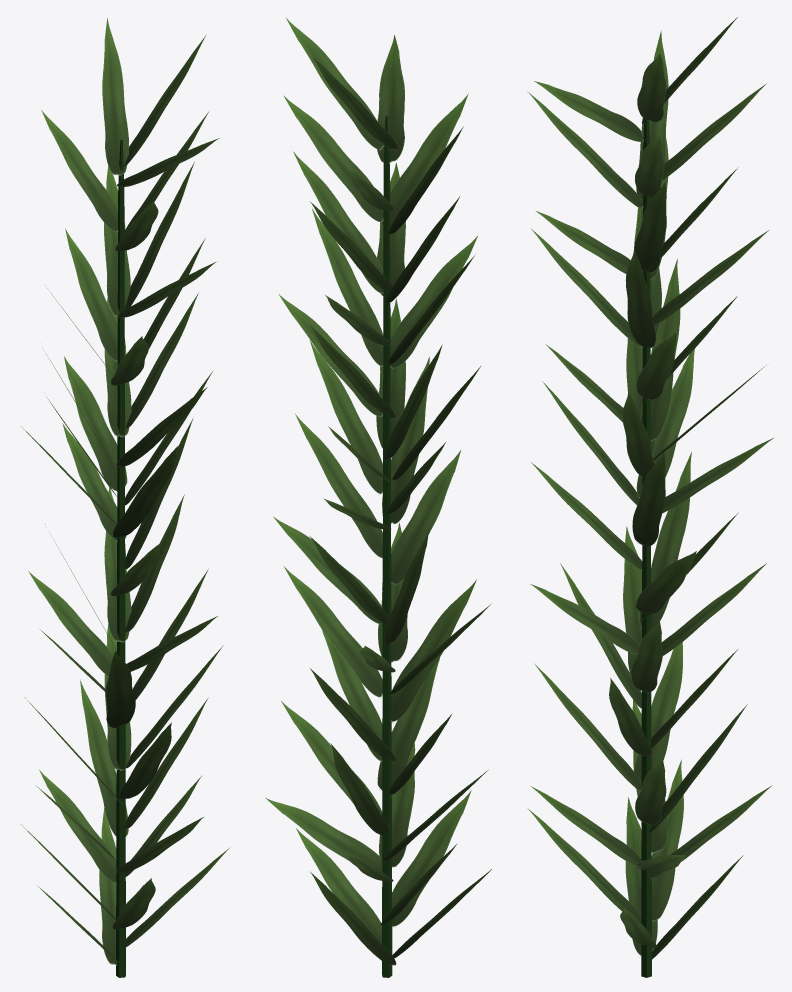
The model's file is kelp short.fbx.
3 renders of one model, left to right at view 1: azimuth 30°, elevation 25°; view 2: azimuth 150°, elevation 25°; view 3: azimuth 270°, elevation 25°, orthographic. The views are drawn at different scales.
Visible parts, largest first — view 1: pCylinder100; view 2: pCylinder100; view 3: pCylinder100.
Boxes of the visible parts, x1,y1,x2,y2 form: pCylinder100: [21, 18, 229, 977]; pCylinder100: [265, 18, 491, 977]; pCylinder100: [527, 17, 773, 977].
Bounding box in the file's own units: 453 × 2002 × 471.
